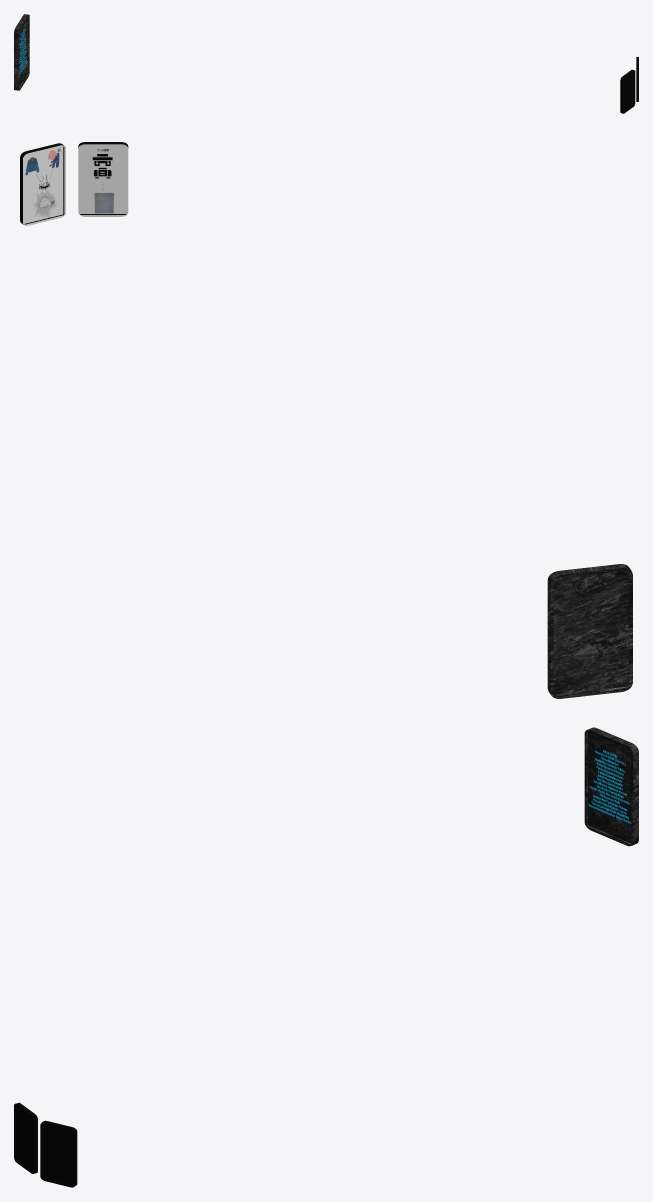
Rendered from CombinedMesh-MeshBaker (6)-mesh.fbx.
3 views of the same model, one above another, from view 1: azimuth 30°, elevation 25°; view 2: azimuth 150°, elevation 25°; view 3: azimuth 270°, elevation 25° (orthographic). The views are drawn at different scales.
Visible parts, largest first — view 1: MeshBaker__6__mesh_mesh; view 2: MeshBaker__6__mesh_mesh; view 3: MeshBaker__6__mesh_mesh.
Boxes of the visible parts, box(x1,y1,x2,y2) form: MeshBaker__6__mesh_mesh: box(14, 14, 638, 113); MeshBaker__6__mesh_mesh: box(20, 142, 632, 698); MeshBaker__6__mesh_mesh: box(14, 727, 638, 1187).
Bounding box in the file's own units: 2544 × 324 × 1830.
